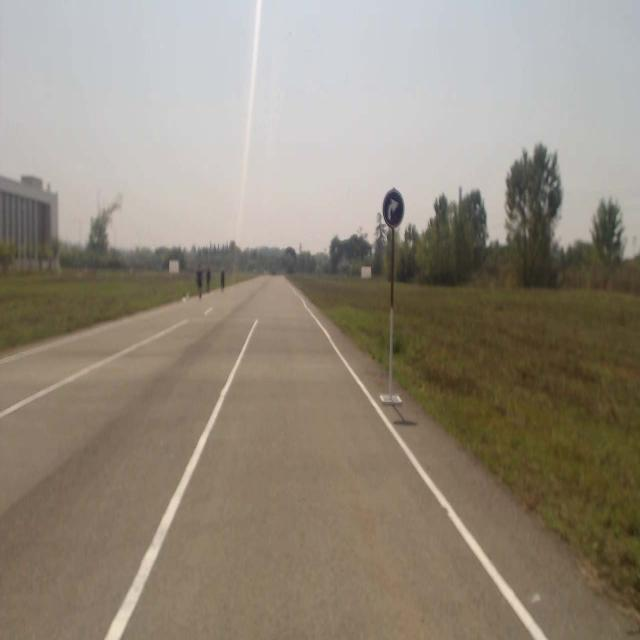sag: (384, 190, 404, 225)
